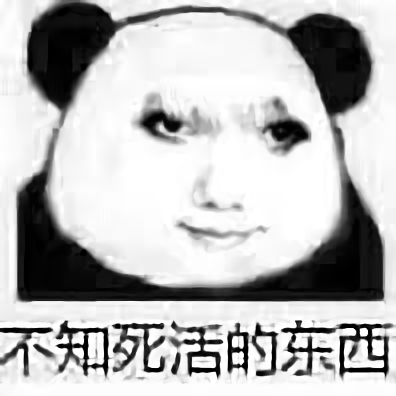dragon: (133, 92, 313, 248)
